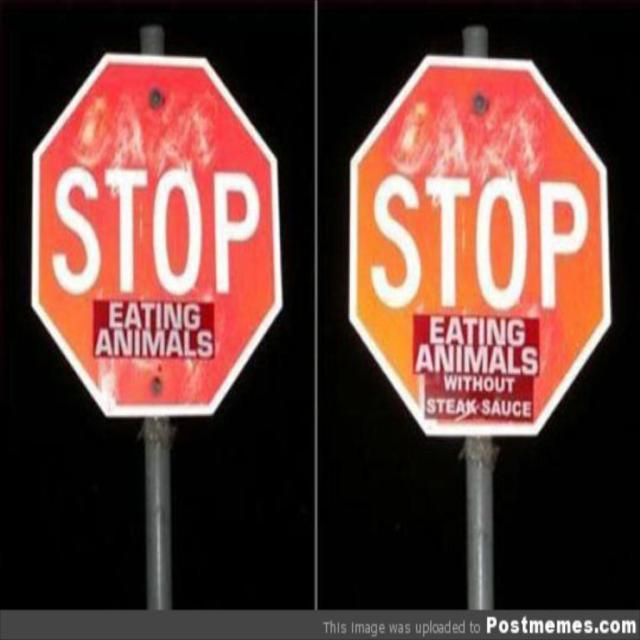Stop-sign: (348, 51, 610, 437), (29, 53, 284, 423)
